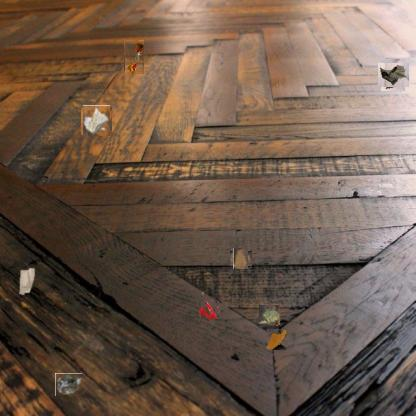dirty: (82, 106, 111, 136), (379, 61, 407, 89), (124, 40, 144, 74), (55, 373, 82, 396), (18, 266, 36, 296), (258, 304, 280, 326), (232, 249, 250, 268)
liquid: (266, 328, 286, 350), (201, 300, 219, 318)
